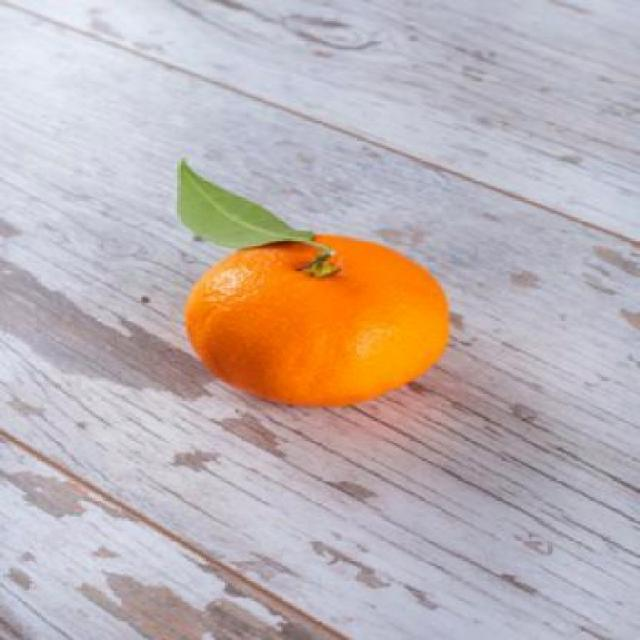Jeruk Sudah Matang: (188, 236, 448, 409)
